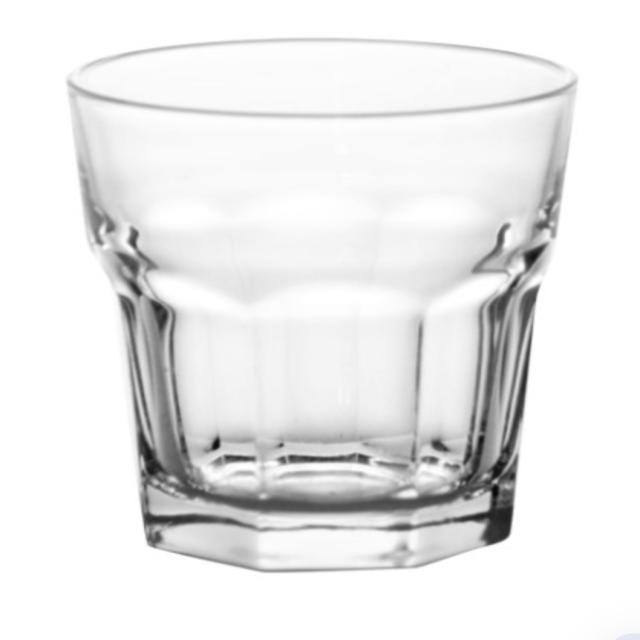recyclable: (59, 21, 609, 596)
